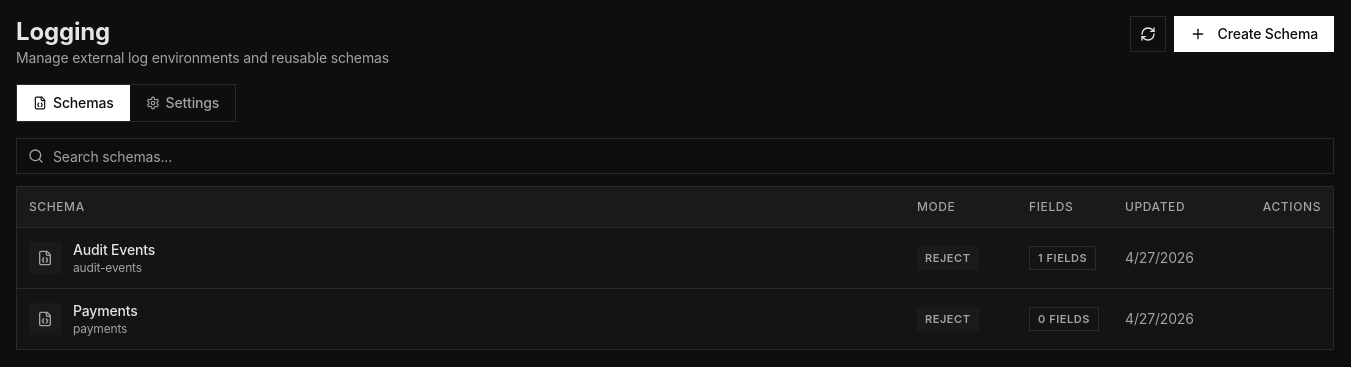
Test: Logging UI › renders and filters logging schema rows on the main page
The width and height of the screenshot is (1351, 367).
Check: the text "Audit Events" is shown, box [73, 240, 155, 260]
Check: the text "Payments" is shown, box [73, 301, 138, 321]
Type "audit" into the field with placeholder "Search schemas..." at (675, 156), box [16, 138, 1334, 174]
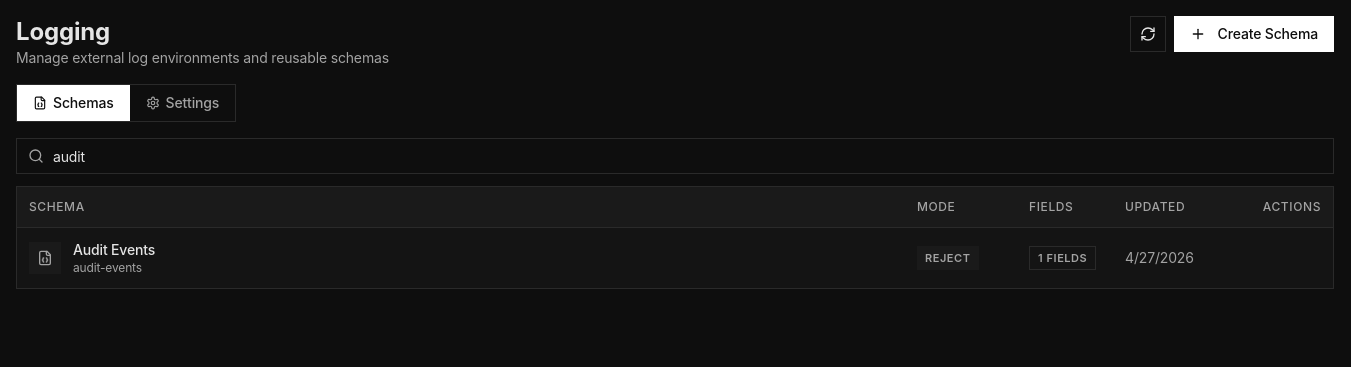
Check: the text "Audit Events" is shown, box [73, 240, 155, 260]
Check: the text "Payments" is gone
